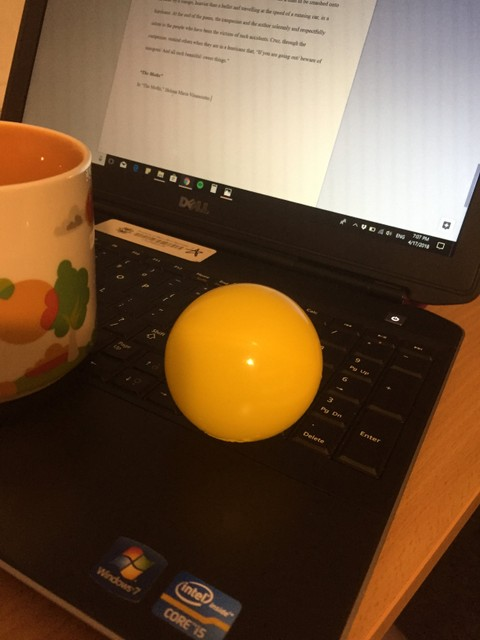ball: (164, 280, 325, 444)
